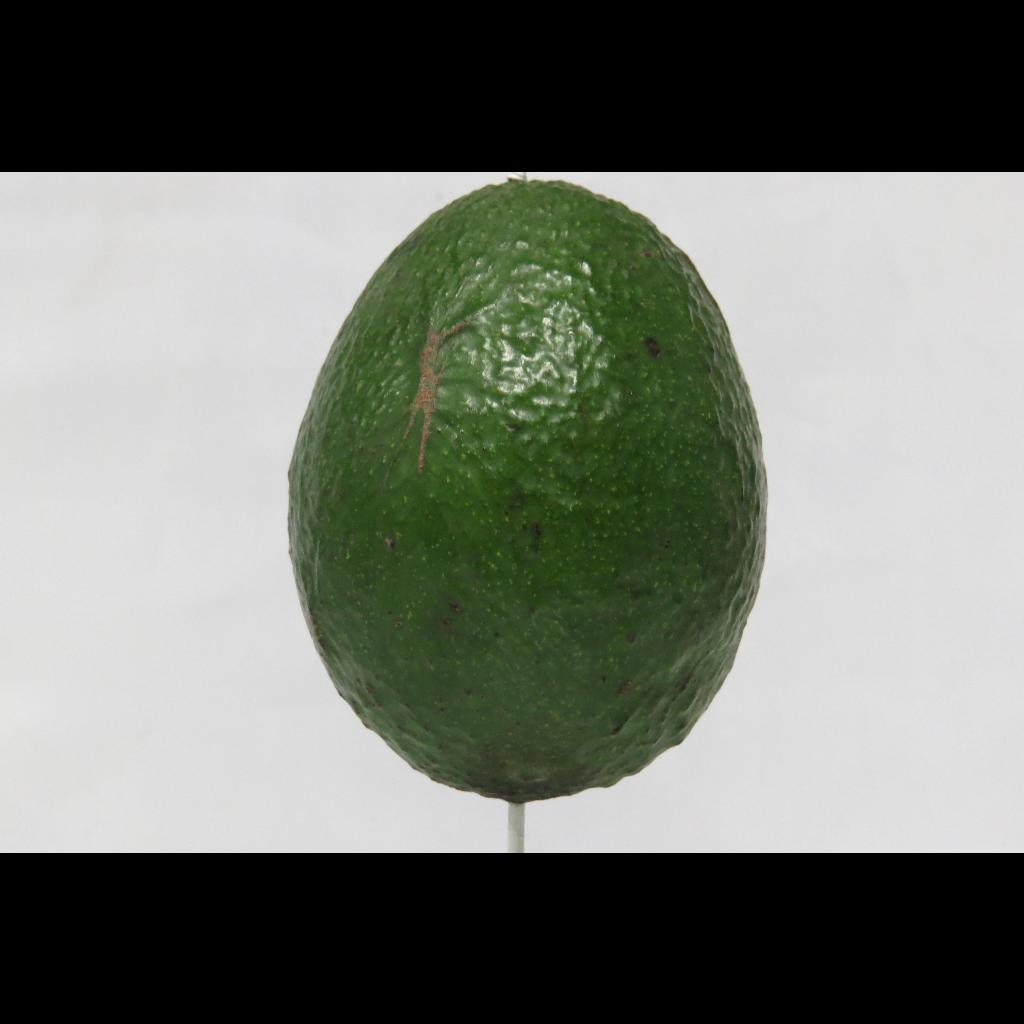Healthy: (280, 172, 790, 818)
